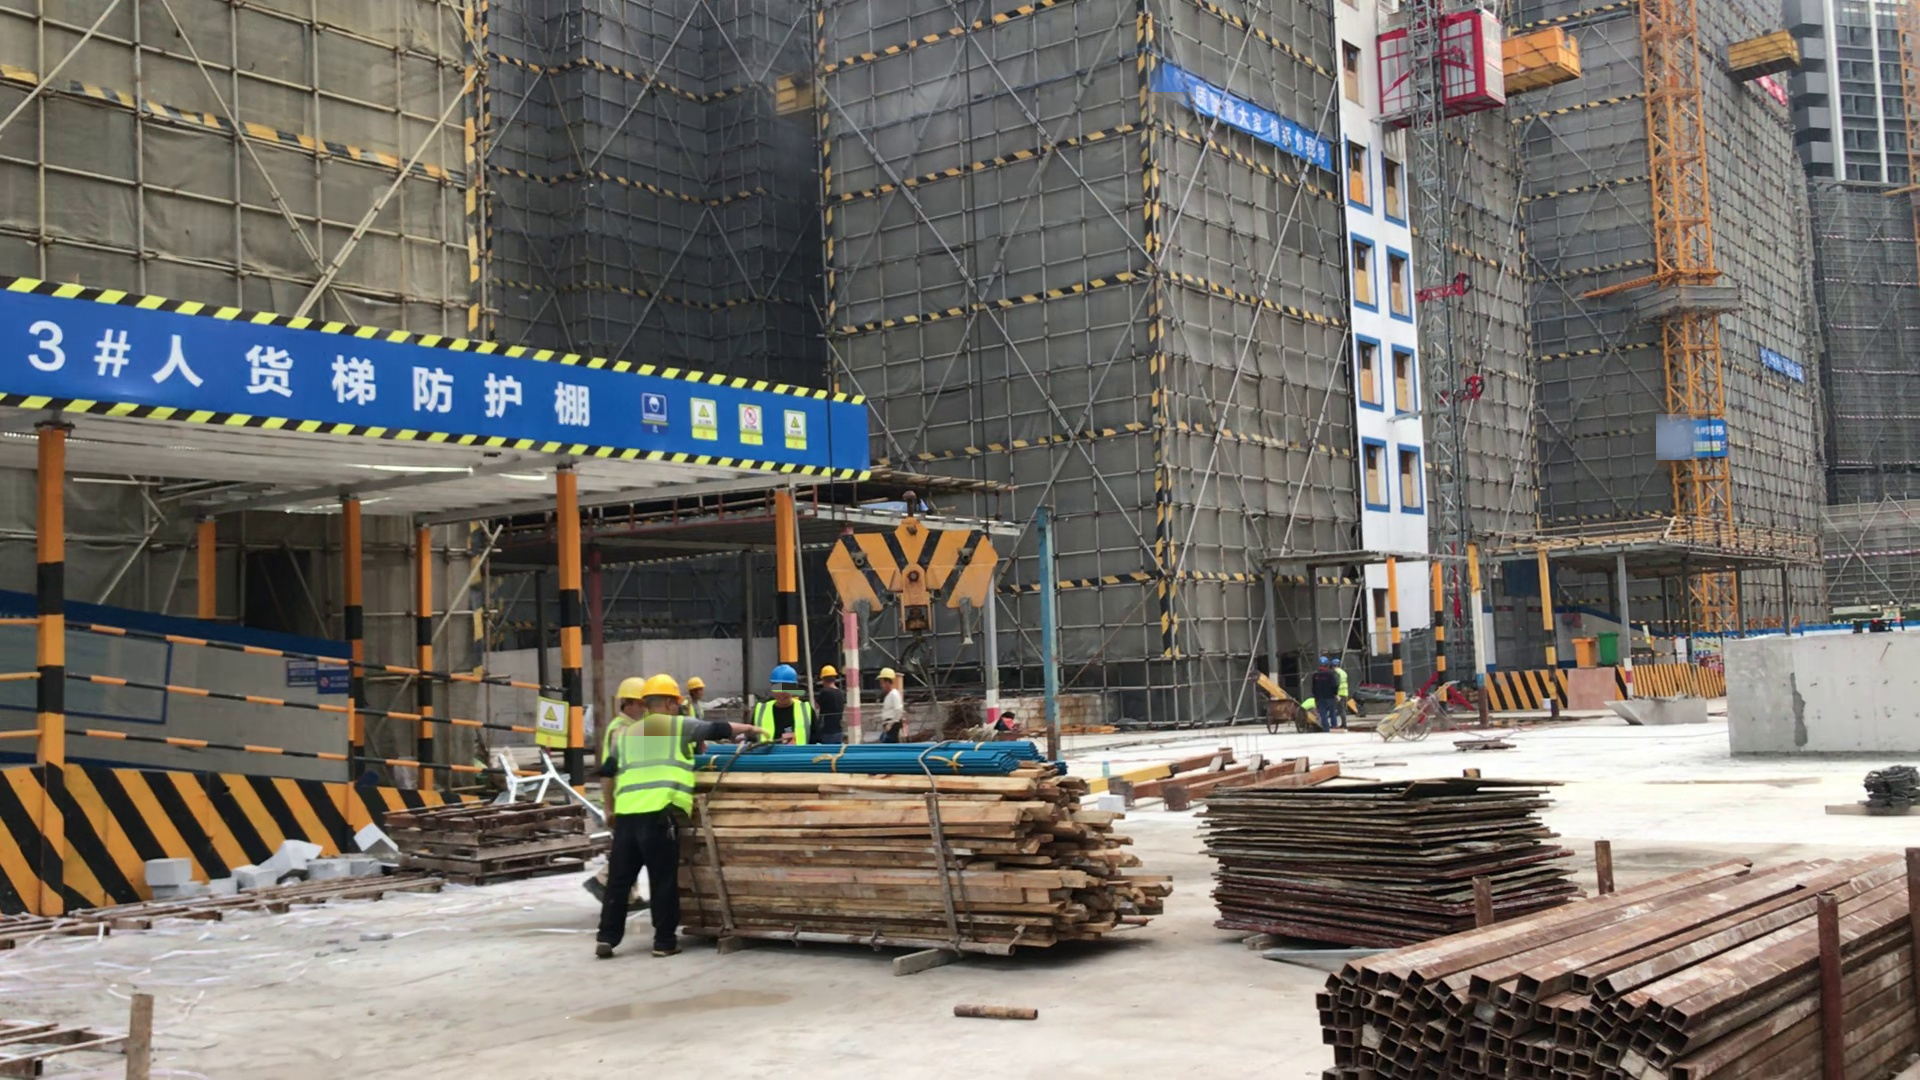board: (1209, 780, 1577, 942)
ebox: (1573, 633, 1596, 670)
handcart: (1381, 706, 1435, 741), (1266, 697, 1305, 730)
helmet: (644, 674, 679, 698), (617, 678, 643, 701), (769, 665, 797, 685), (685, 675, 704, 690), (820, 665, 838, 678), (877, 667, 896, 679)
hook: (824, 506, 1001, 677)
hopper: (1611, 695, 1709, 726)
person: (597, 672, 692, 956), (758, 668, 813, 750), (602, 678, 644, 776), (875, 666, 906, 743), (1312, 657, 1339, 735), (819, 664, 843, 747), (1336, 660, 1351, 734), (682, 681, 709, 720)
scaffold: (1327, 864, 1892, 1080)
slogan: (1156, 69, 1336, 168), (635, 391, 809, 451), (532, 693, 574, 749), (1766, 347, 1811, 380)
vest: (619, 716, 692, 811), (755, 704, 814, 747), (1336, 667, 1348, 699)
wood: (693, 772, 1177, 951)
